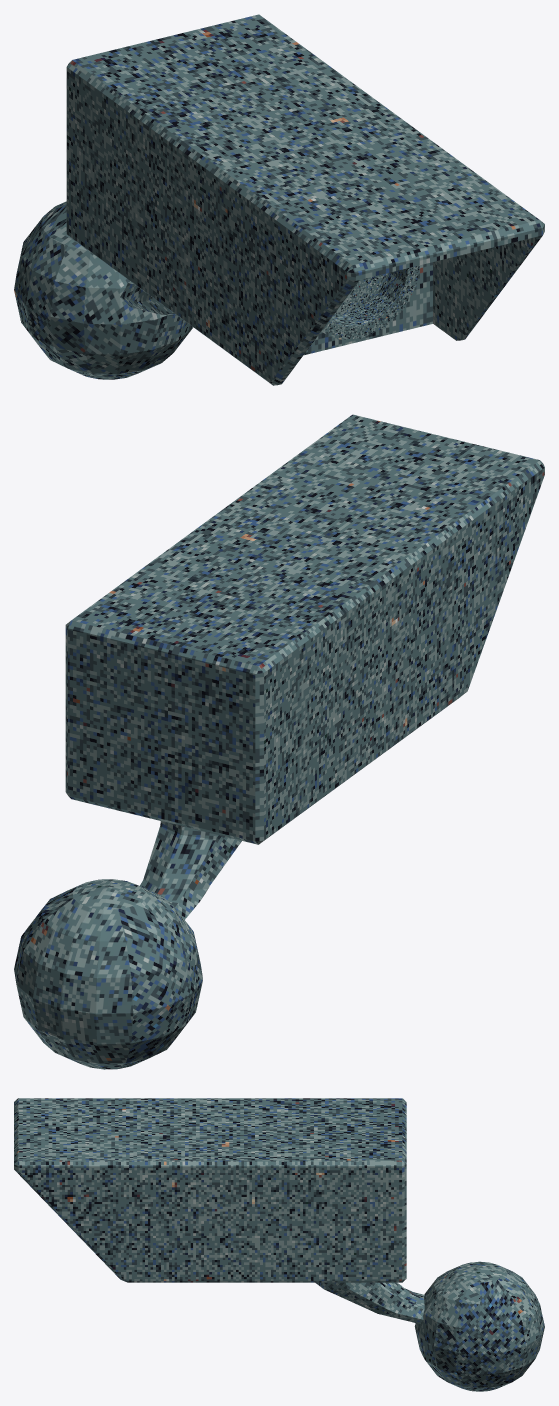
Rendered from security_cam.glb.
3 renders of one model, top to bottom at view 1: azimuth 30°, elevation 25°; view 2: azimuth 150°, elevation 25°; view 3: azimuth 270°, elevation 25°, orthographic. The views are drawn at different scales.
Visible parts, largest first — view 1: SecurityCamera; view 2: SecurityCamera; view 3: SecurityCamera.
Boxes of the visible parts, bbox=[...] form: SecurityCamera: bbox=[14, 14, 544, 385]; SecurityCamera: bbox=[14, 414, 544, 1069]; SecurityCamera: bbox=[14, 1098, 544, 1391].
Bounding box in the file's own units: 0.4898 × 0.8883 × 1.67.
3 materials, 2 textured.
